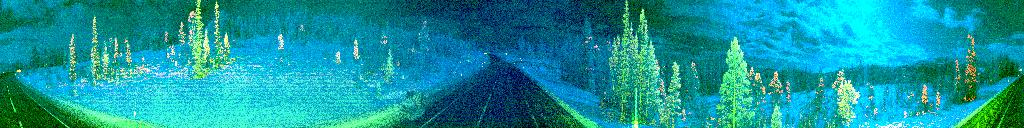pole: (630, 87, 641, 128), (131, 94, 140, 127)
